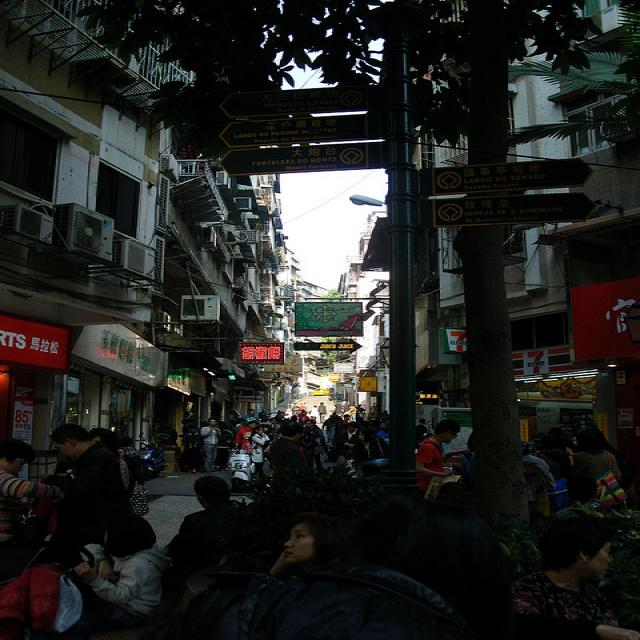motor: (221, 446, 256, 491), (135, 433, 166, 481)
